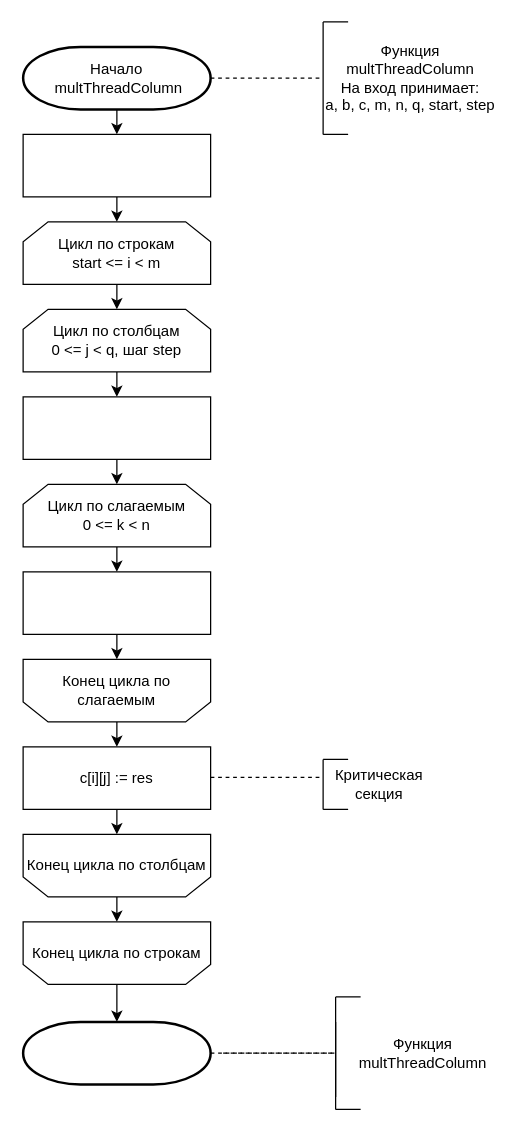
Some shapes in this 531 by 1133 pixel diagram are drawn without their labels. Here are the shapes that lost their labels. From the top down, the box of each, then its label:
(22, 133, 211, 197): i := 0, j := start, k := 0
(22, 396, 211, 459): res := 0
(22, 571, 211, 634): res += a[i][k] * b[k][j]
(21, 1020, 211, 1085): Конец multThreadColumn
